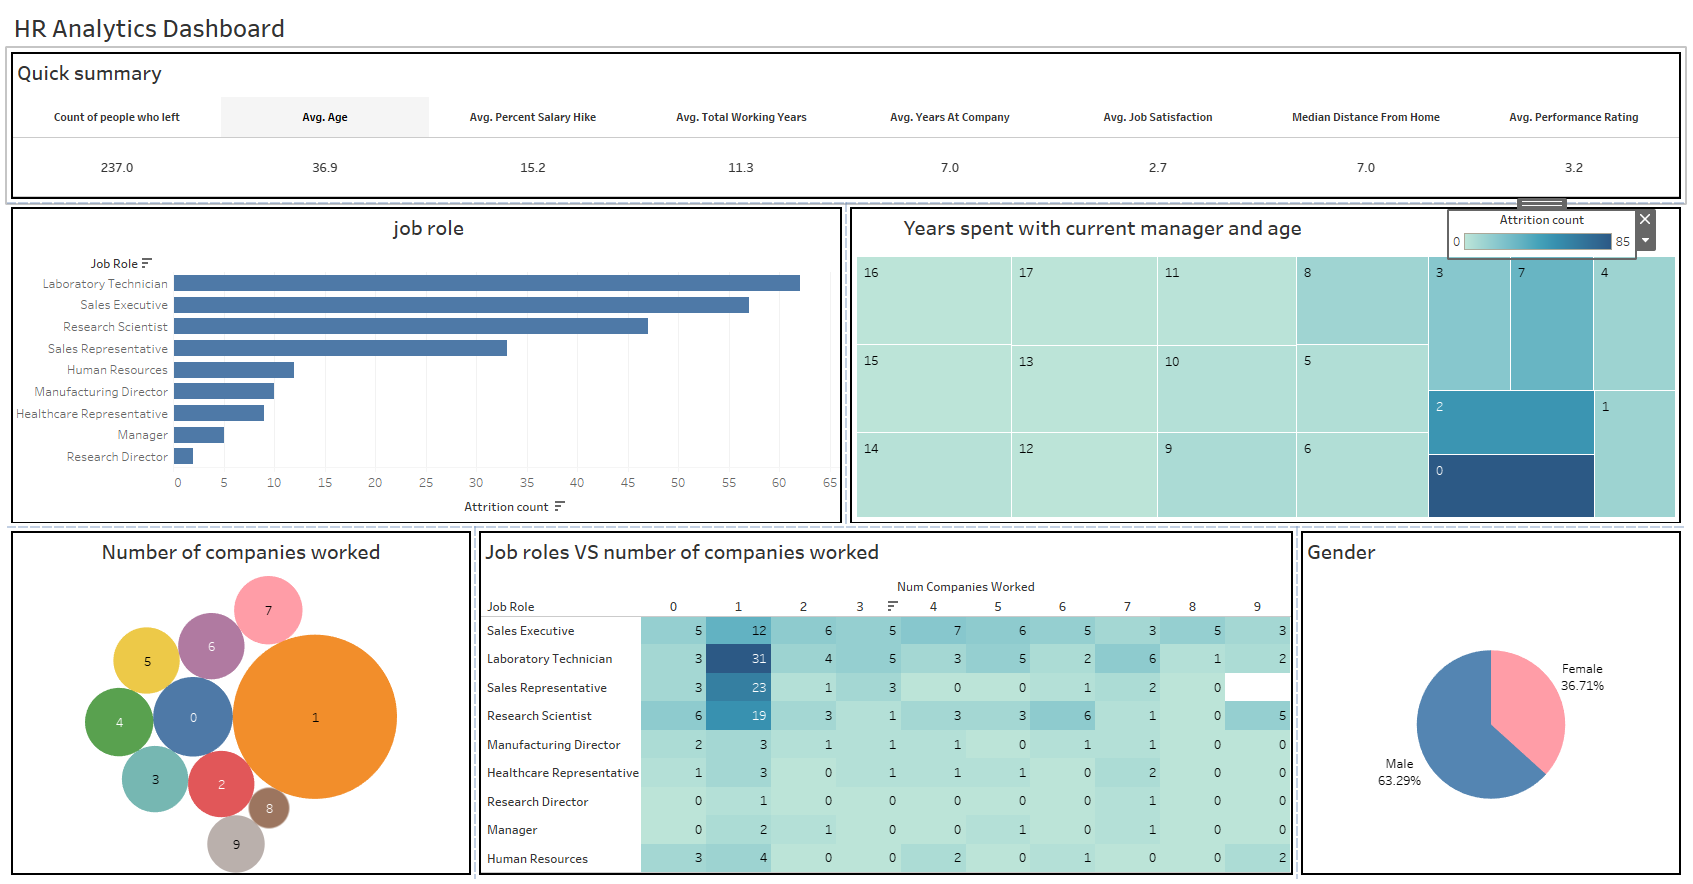

The dashboard page shown, as its layout file describes it:
{"tool":"tableau","page":{"name":"Dashboard 1","canvas":[1000,1000],"units":"permille","ordinal":0},"visuals":[{"type":"title","box":[4.7,9,990.6,46.2]},{"type":"worksheet","title":"Sheet 1","mark":"Automatic","box":[4.7,55.2,990.6,174.1]},{"type":"worksheet","title":"Sheet 2","mark":"Automatic","rows":["JobRole"],"cols":["Calculation_392094689816809476"],"box":[4.7,229.2,495.2,365.5]},{"type":"worksheet","title":"Sheet 3","mark":"Automatic","box":[499.9,229.2,495.4,365.5]},{"type":"legend","title":"Sheet 3","param":"[federated.1inj39b14se3qj1c6nj3h0kqe4bh].[sum:Calculation_392094689816809476:qk]","box":[856,238.7,109.8,52.9]},{"type":"worksheet","title":"Sheet 4","mark":"Circle","box":[4.7,594.7,276.4,396.2]},{"type":"worksheet","title":"Sheet 6","mark":"Square","rows":["JobRole"],"cols":["NumCompaniesWorked"],"box":[281.2,594.7,485.3,396.2]},{"type":"worksheet","title":"Sheet 5","mark":"Pie","box":[766.5,594.7,228.8,396.2]}]}

Visuals, with their boxes on the dashboard's canvas, which has no fixed pixel size, in thousandths of its width and height (x1, y1, x2, y2). These are canvas units, not pixel positions in the 1693x884 screenshot, which may show the page scaled, cropped or inside an application window:
title: x1=5, y1=9, x2=995, y2=55
"Sheet 1" worksheet: x1=5, y1=55, x2=995, y2=229
"Sheet 2" worksheet: x1=5, y1=229, x2=500, y2=595
"Sheet 3" worksheet: x1=500, y1=229, x2=995, y2=595
"Sheet 3" legend: x1=856, y1=239, x2=966, y2=292
"Sheet 4" worksheet (Circle marks): x1=5, y1=595, x2=281, y2=991
"Sheet 6" worksheet (Square marks): x1=281, y1=595, x2=766, y2=991
"Sheet 5" worksheet (Pie marks): x1=766, y1=595, x2=995, y2=991
